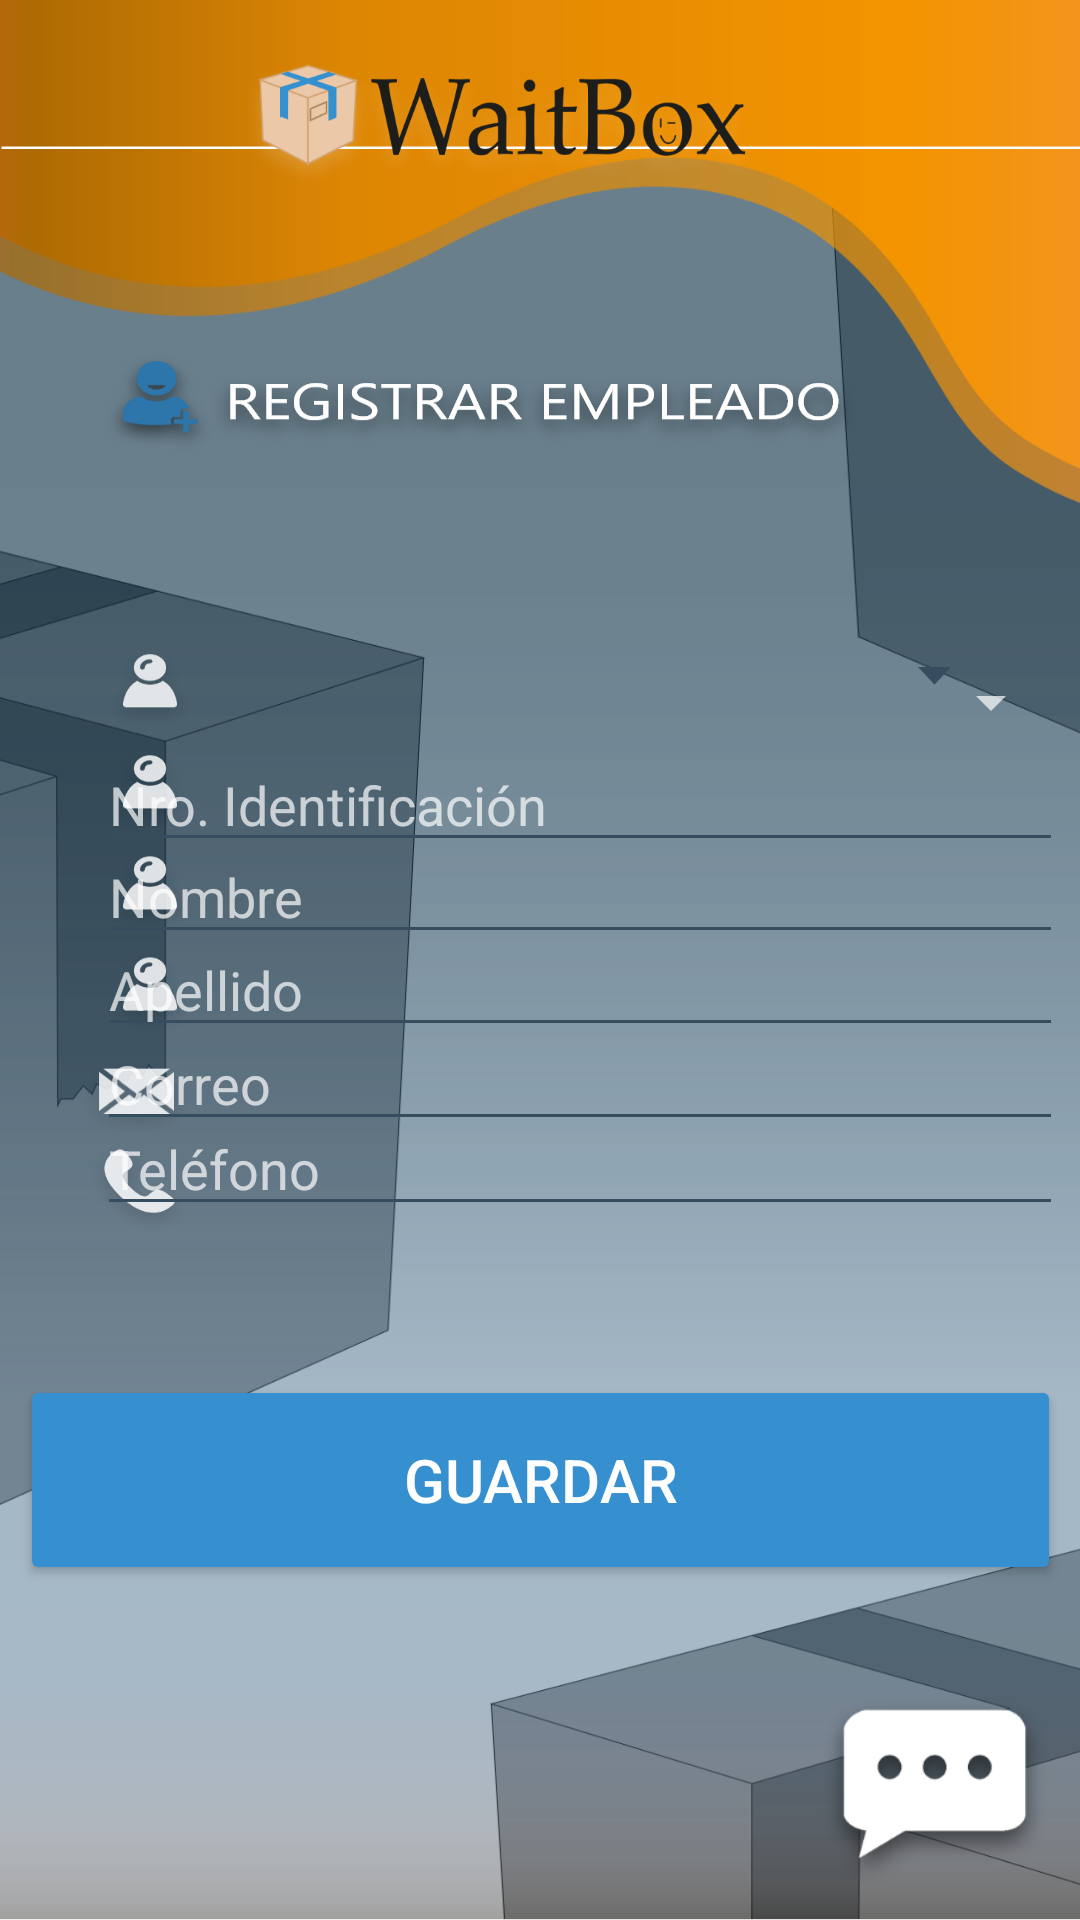

Icon click points for this 1080px×1920px phone screenshot, format [x,y]:
chat bubbles with ellipsis: [940,1801]
